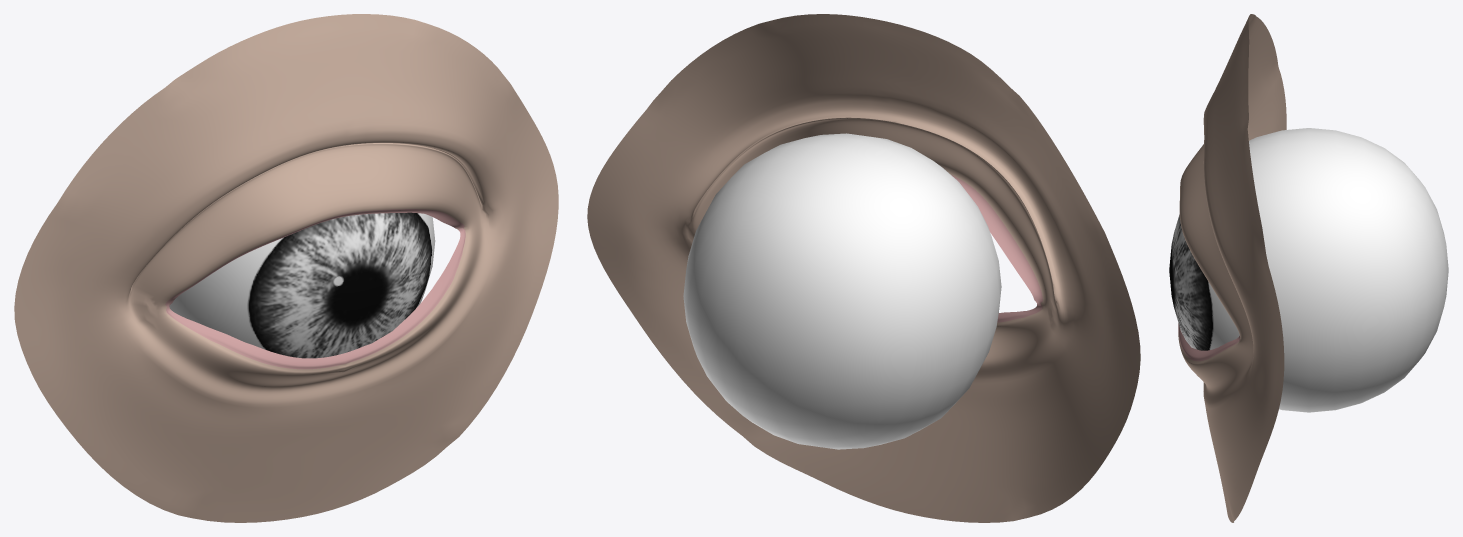
Rendered from Eye.fbx.
3 views of the same model, side by side, from view 1: azimuth 30°, elevation 25°; view 2: azimuth 150°, elevation 25°; view 3: azimuth 270°, elevation 25° (orthographic). The views are drawn at different scales.
Visible parts, largest first — view 1: Eye_Shape, Eye-1; view 2: Eye_Shape, Eye-1; view 3: Eye-1, Eye_Shape.
Part boxes in pixels (bbox=[...]): Eye_Shape: bbox=[14, 14, 558, 522]; Eye-1: bbox=[169, 212, 435, 358]; Eye_Shape: bbox=[587, 14, 1140, 522]; Eye-1: bbox=[683, 133, 1001, 449]; Eye-1: bbox=[1169, 128, 1448, 412]; Eye_Shape: bbox=[1178, 14, 1286, 522].
Size of the model in its own units: 0.2129 by 0.1827 by 0.1031.
